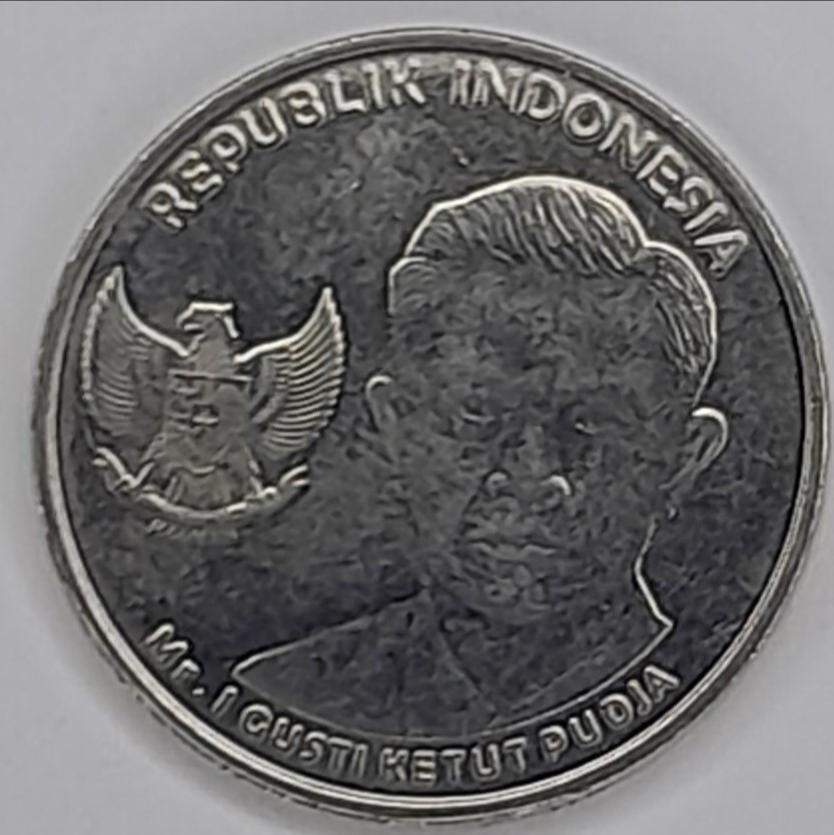coin_1000_e2016: (14, 17, 823, 835)
